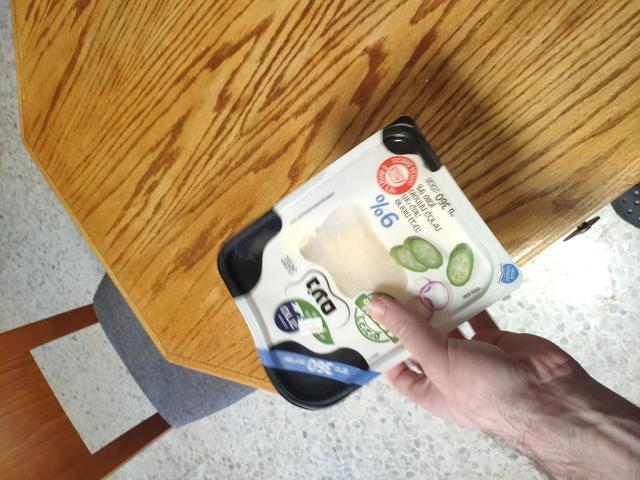cheese: (228, 134, 471, 426)
